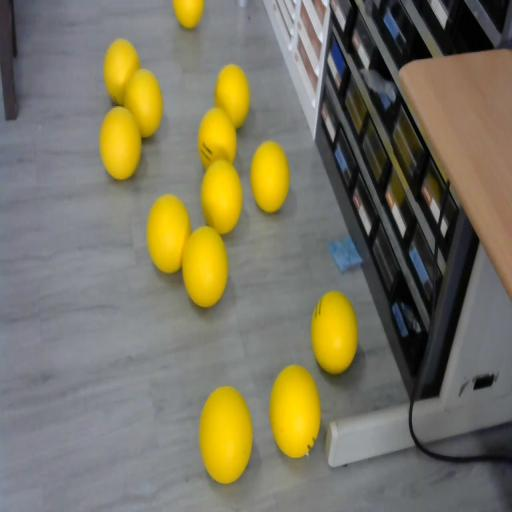FUEL: (198, 384, 252, 483), (268, 364, 322, 458), (311, 290, 358, 374), (181, 224, 229, 306), (145, 192, 191, 274), (200, 158, 244, 234), (100, 106, 142, 180), (250, 140, 290, 213), (104, 38, 140, 106), (214, 64, 251, 128), (172, 0, 204, 30)
